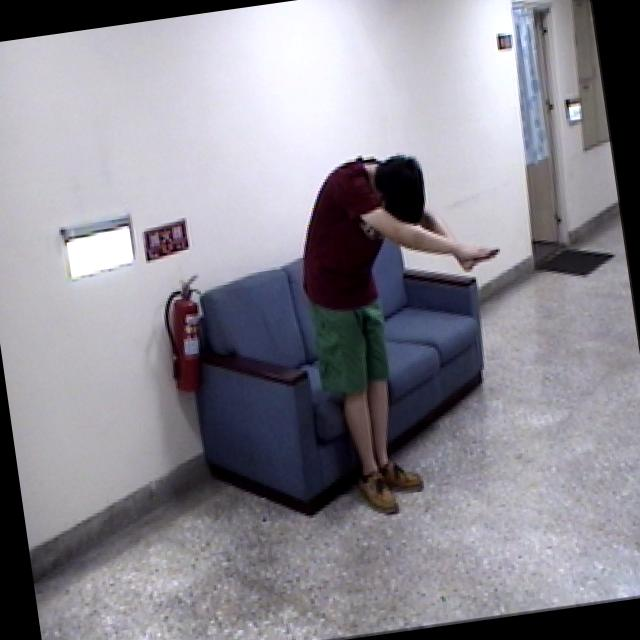bend: (277, 130, 540, 536)
